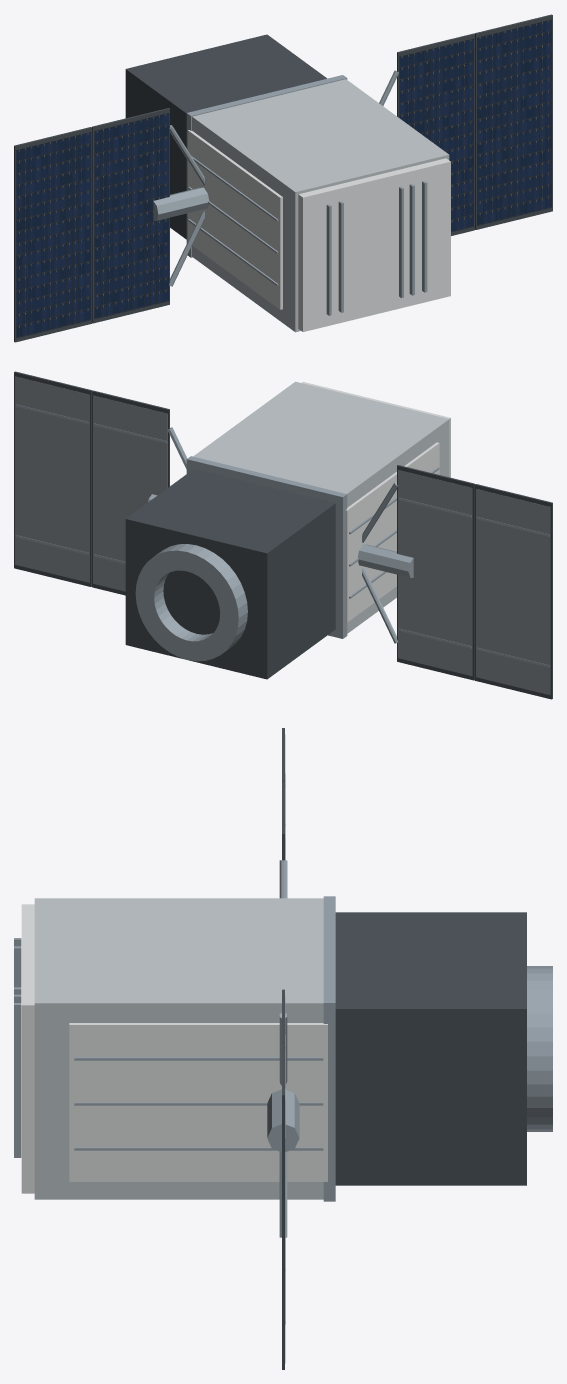
File: ref-cubesat-12u-55246.glb
The picture shows the model from 3 angles, top to bottom: view 1: azimuth 30°, elevation 25°; view 2: azimuth 150°, elevation 25°; view 3: azimuth 270°, elevation 25°; orthographic projection. The views are drawn at different scales.
Visible parts, largest first — view 1: Solar cell panel (×4), Payload module, Earth-facing deck, Service module, Radiator face, Solar panel frame (×4), Deck heat pipe (×5), Array drive, Module interface, Array yoke; view 2: Rear array substrate (×4), Service module, Payload module, Launch adapter ring, Solar panel frame (×4), Radiator face, Module interface, Array drive, Array yoke (×2), Earth-facing deck; view 3: Service module, Payload module, Radiator face, Launch adapter ring, Earth-facing deck, Module interface, Radiator seam (×3), Array drive, Deck heat pipe, Solar panel frame.
Part boxes in pixels (x1,y1,x2,y2): Solar cell panel (×4): (16, 19, 551, 338); Payload module: (192, 79, 449, 332); Earth-facing deck: (298, 158, 450, 331); Service module: (125, 34, 326, 239); Radiator face: (187, 130, 282, 309); Solar panel frame (×4): (14, 14, 552, 342); Deck heat pipe (×5): (326, 181, 427, 315); Array drive: (153, 187, 209, 220); Module interface: (186, 75, 347, 257); Array yoke: (169, 210, 204, 286); Rear array substrate (×4): (15, 376, 550, 695); Service module: (125, 469, 335, 679); Payload module: (193, 381, 449, 633); Launch adapter ring: (135, 544, 247, 661); Solar panel frame (×4): (14, 371, 552, 699); Radiator face: (345, 442, 439, 622); Module interface: (186, 456, 347, 638); Array drive: (357, 544, 413, 577); Array yoke (×2): (362, 482, 397, 643); Earth-facing deck: (302, 382, 450, 477); Service module: (335, 912, 526, 1185); Payload module: (34, 898, 323, 1199); Radiator face: (69, 1023, 327, 1181); Launch adapter ring: (527, 966, 552, 1131); Earth-facing deck: (21, 904, 34, 1193); Module interface: (323, 896, 335, 1201); Radiator seam (×3): (74, 1057, 323, 1150); Array drive: (267, 1089, 299, 1152); Deck heat pipe: (14, 1003, 21, 1157); Solar panel frame: (282, 1042, 284, 1369).
Bounding box in the file's own units: 1.4 × 0.4871 × 0.8668.
6 materials, 1 textured.
